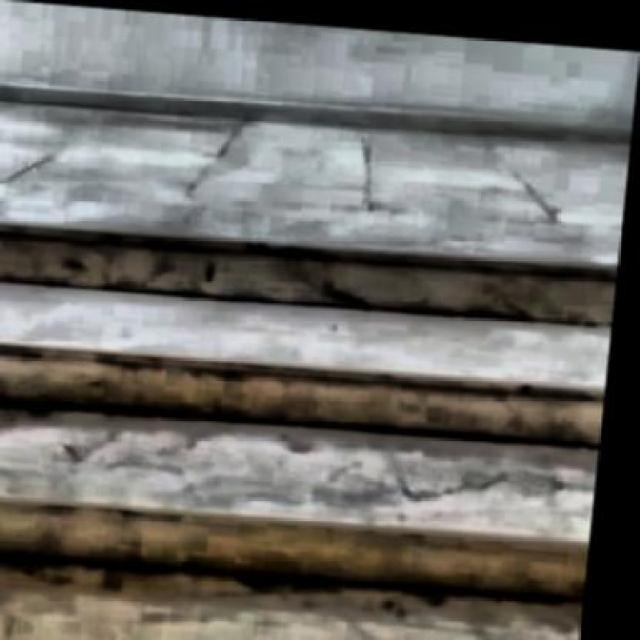stair: (0, 201, 623, 638)
